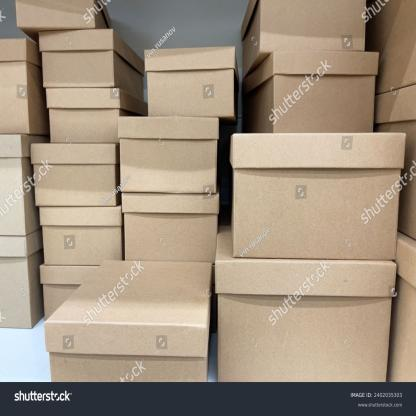box: (234, 132, 407, 259), (215, 258, 396, 378), (46, 320, 208, 384), (274, 54, 378, 132), (117, 118, 219, 192), (123, 193, 220, 263), (259, 0, 366, 55), (147, 50, 233, 115), (30, 143, 115, 206), (40, 207, 122, 266), (39, 30, 115, 88), (47, 87, 119, 140), (0, 236, 30, 329), (0, 39, 29, 134), (0, 134, 26, 237), (15, 0, 94, 29)
